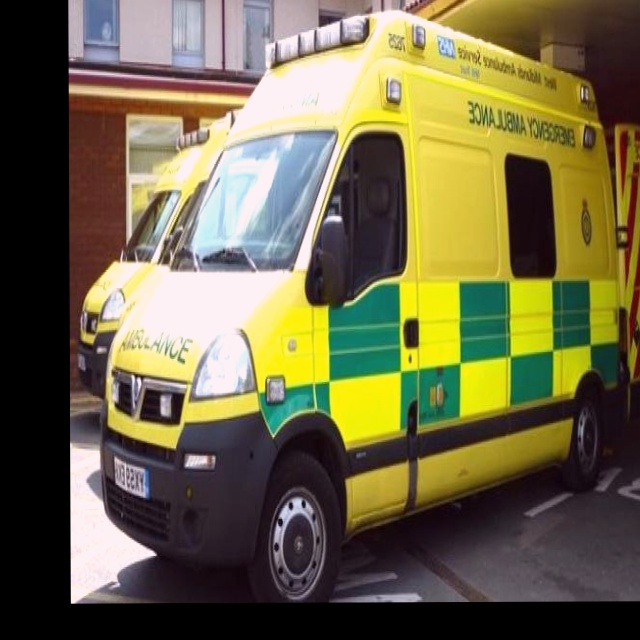Ambulance: (98, 7, 640, 602), (607, 120, 640, 423)
